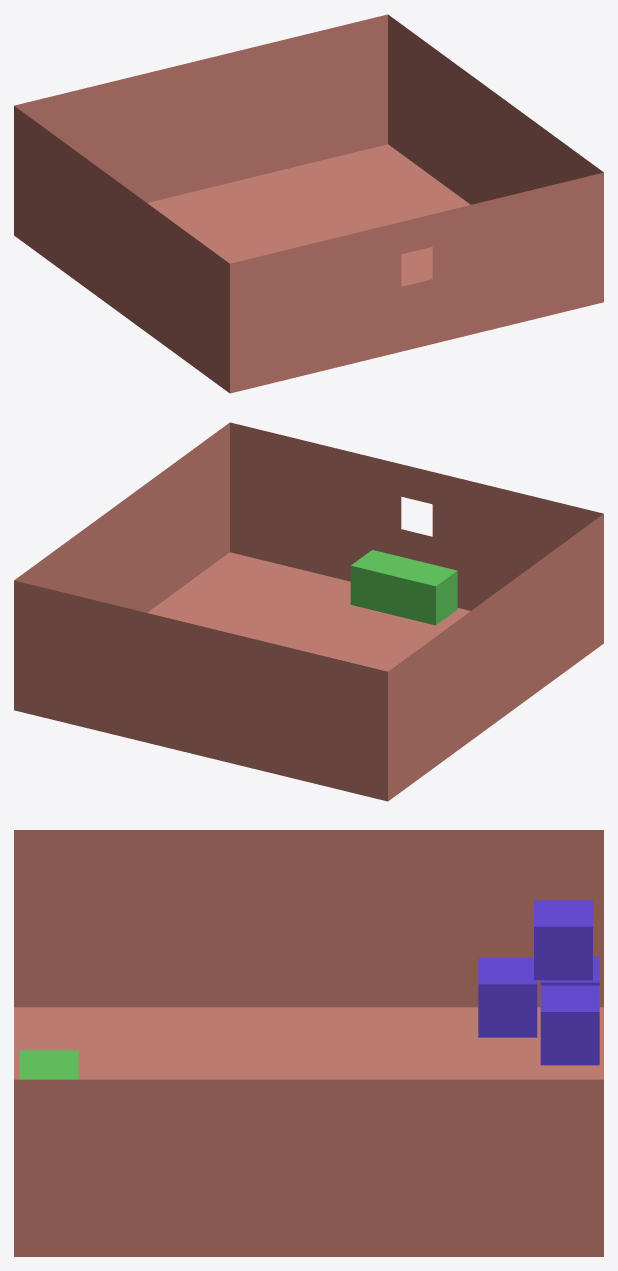
File: house2.dae
3 views of the same model, one above another, from view 1: azimuth 30°, elevation 25°; view 2: azimuth 150°, elevation 25°; view 3: azimuth 270°, elevation 25° (orthographic). The views are drawn at different scales.
Parts seen in each view (by area): view 1: Plane; view 2: Plane, Cube; view 3: Plane, Cube_002, Cube_004, Cube_003, Cube.
Boxes of the visible parts, x1,y1,x2,y2 form: Plane: (14, 14, 603, 393); Plane: (14, 422, 603, 801); Cube: (350, 550, 457, 625); Plane: (14, 830, 603, 1256); Cube_002: (540, 985, 599, 1065); Cube_004: (534, 900, 592, 980); Cube_003: (478, 957, 537, 1037); Cube: (19, 1050, 78, 1079).
Bounding box in the file's own units: 20 × 20 × 6.63.
